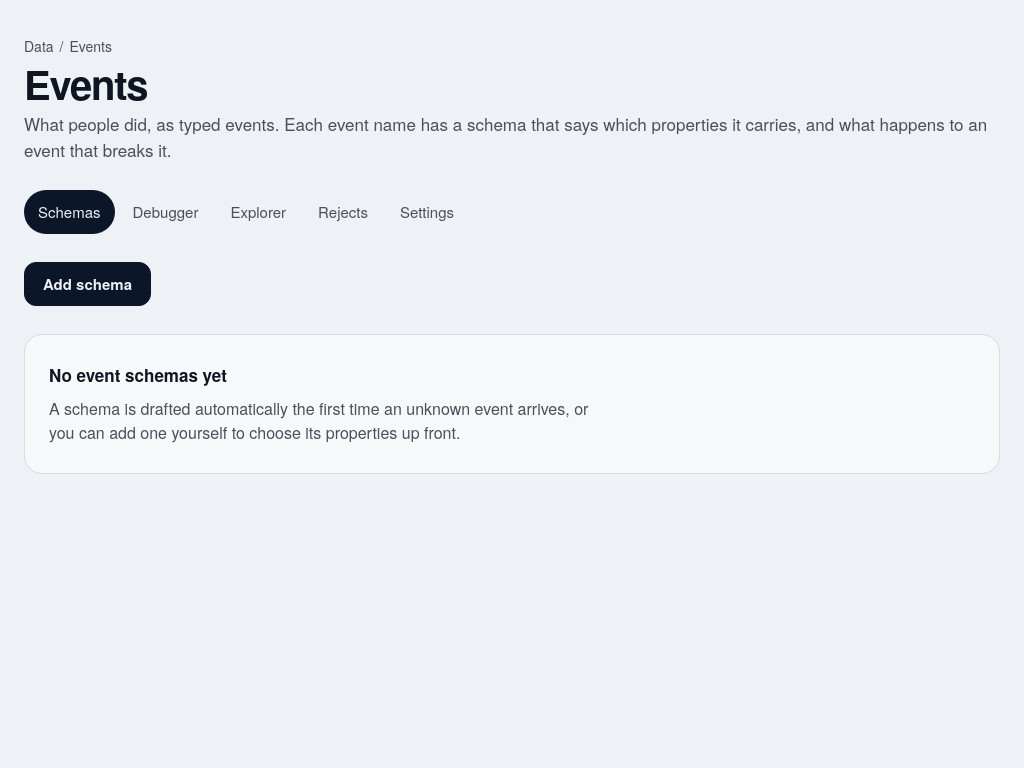
Test: event schemas › adds a schema, sending the chosen mode, and lists it afterwards
The image size is (1024, 768).
Step 1. Click the button "Add schema" → click(88, 284), box [24,262,151,306]
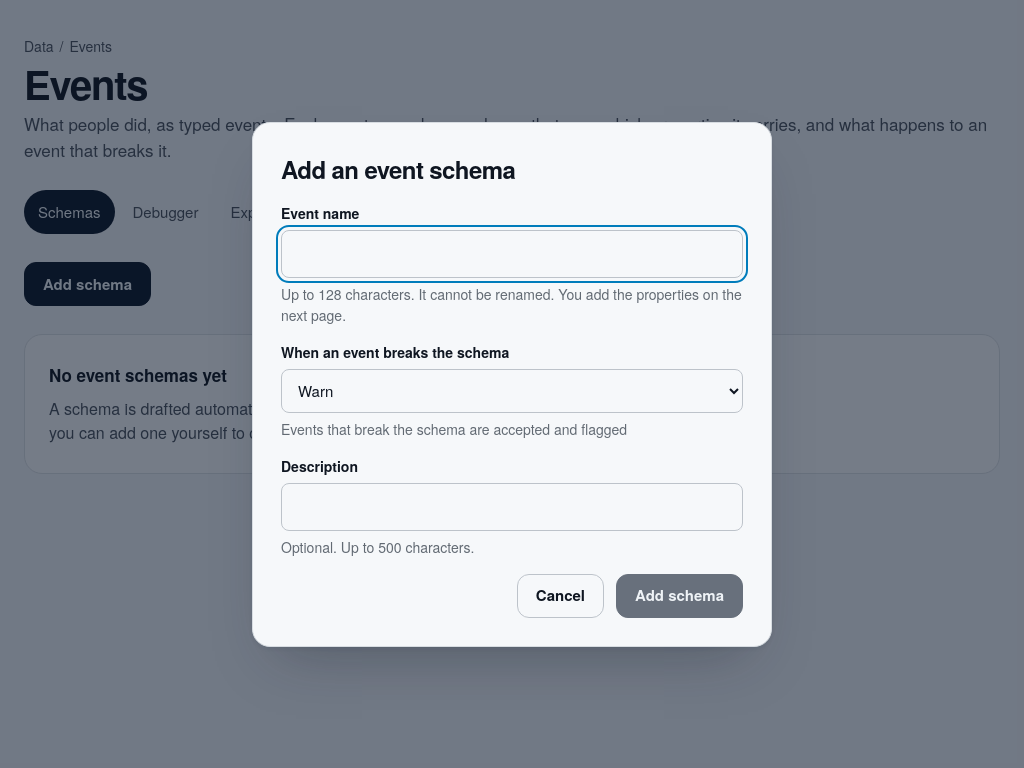
Expected: the button "Add schema" is disabled, [616,574,743,618]
Step 2. Type "Order Completed" into the field labelled "Event name" → (512, 254), box [281,230,743,278]
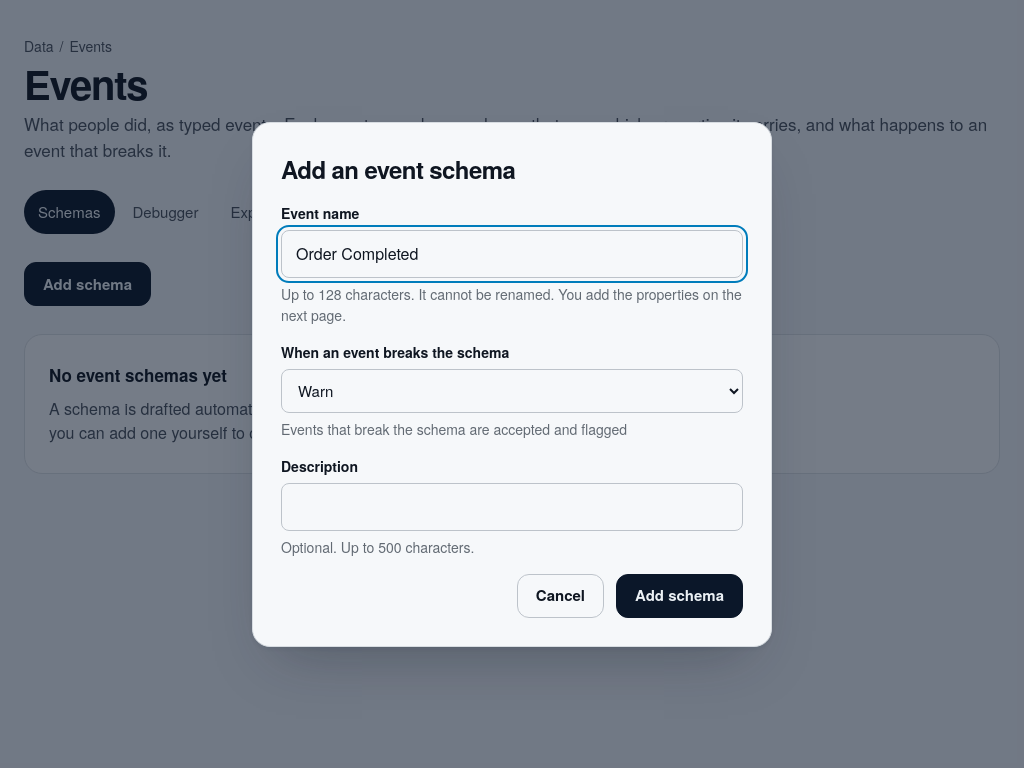
Step 3. Select "Block" in the dropdown labelled "When an event breaks the schema" → (512, 390), box [281,368,743,412]
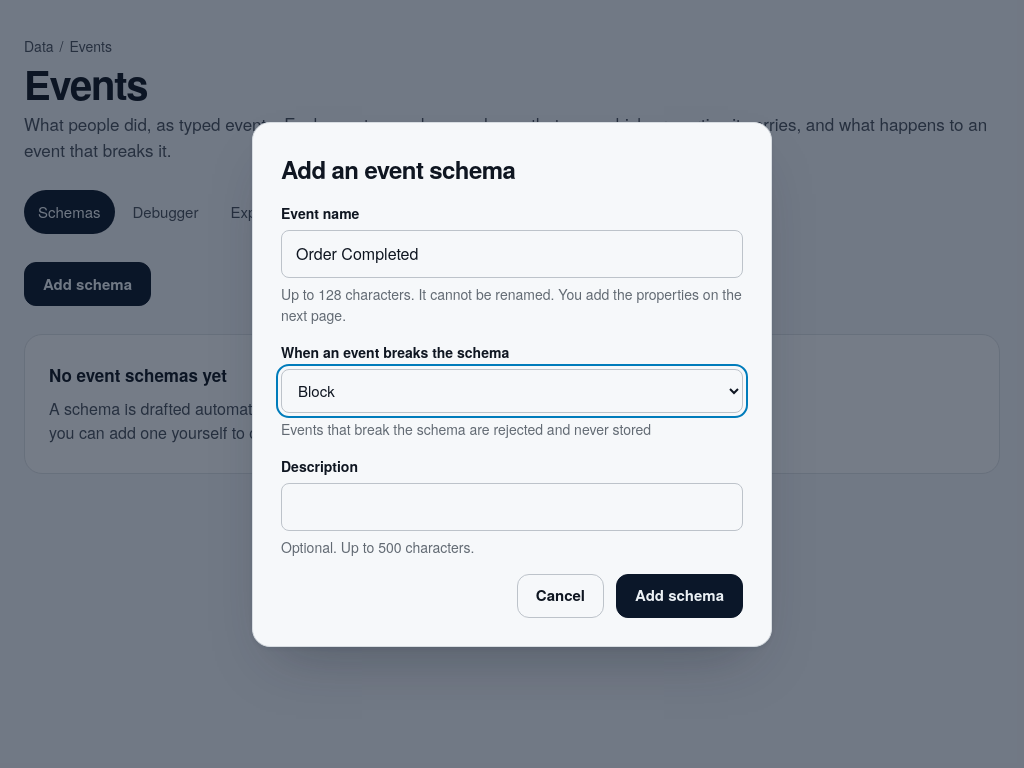
Step 4. Click the button "Add schema" → click(680, 596), box [616,574,743,618]
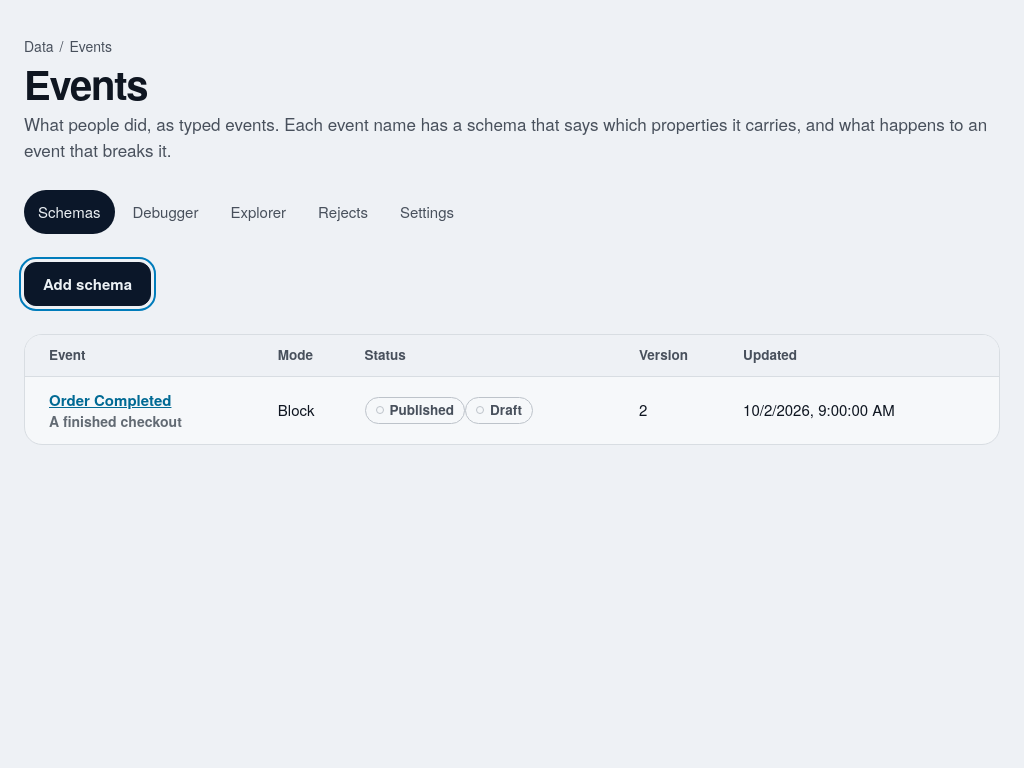
Expected: the link "Order Completed" is shown, [49,389,172,411]
Expected: the dialog is gone
